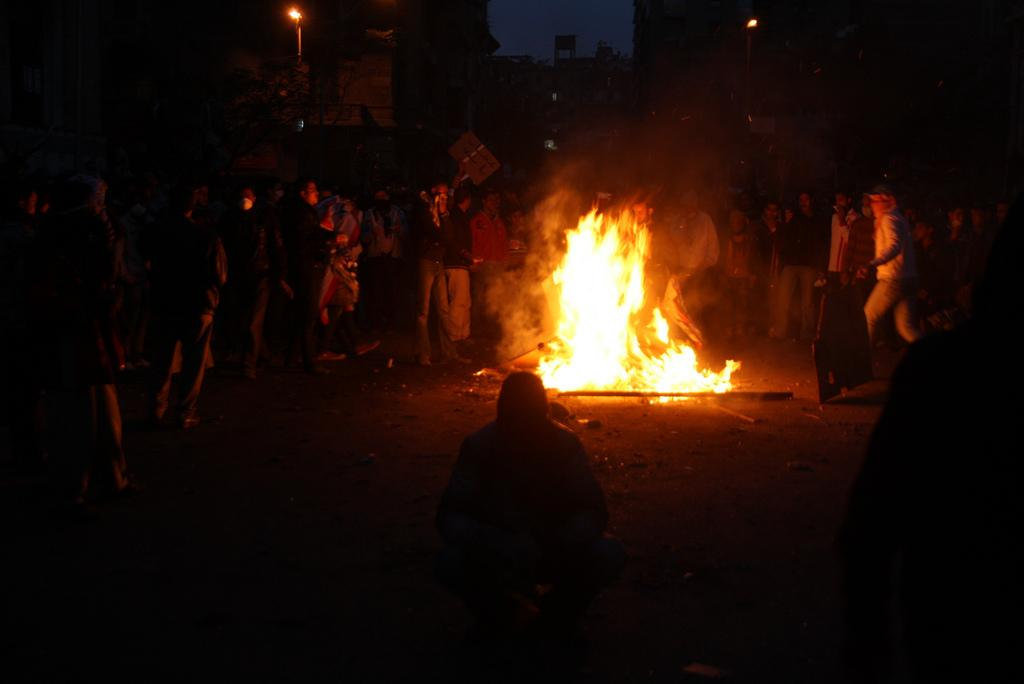fire: (558, 220, 640, 393), (643, 337, 735, 397)
